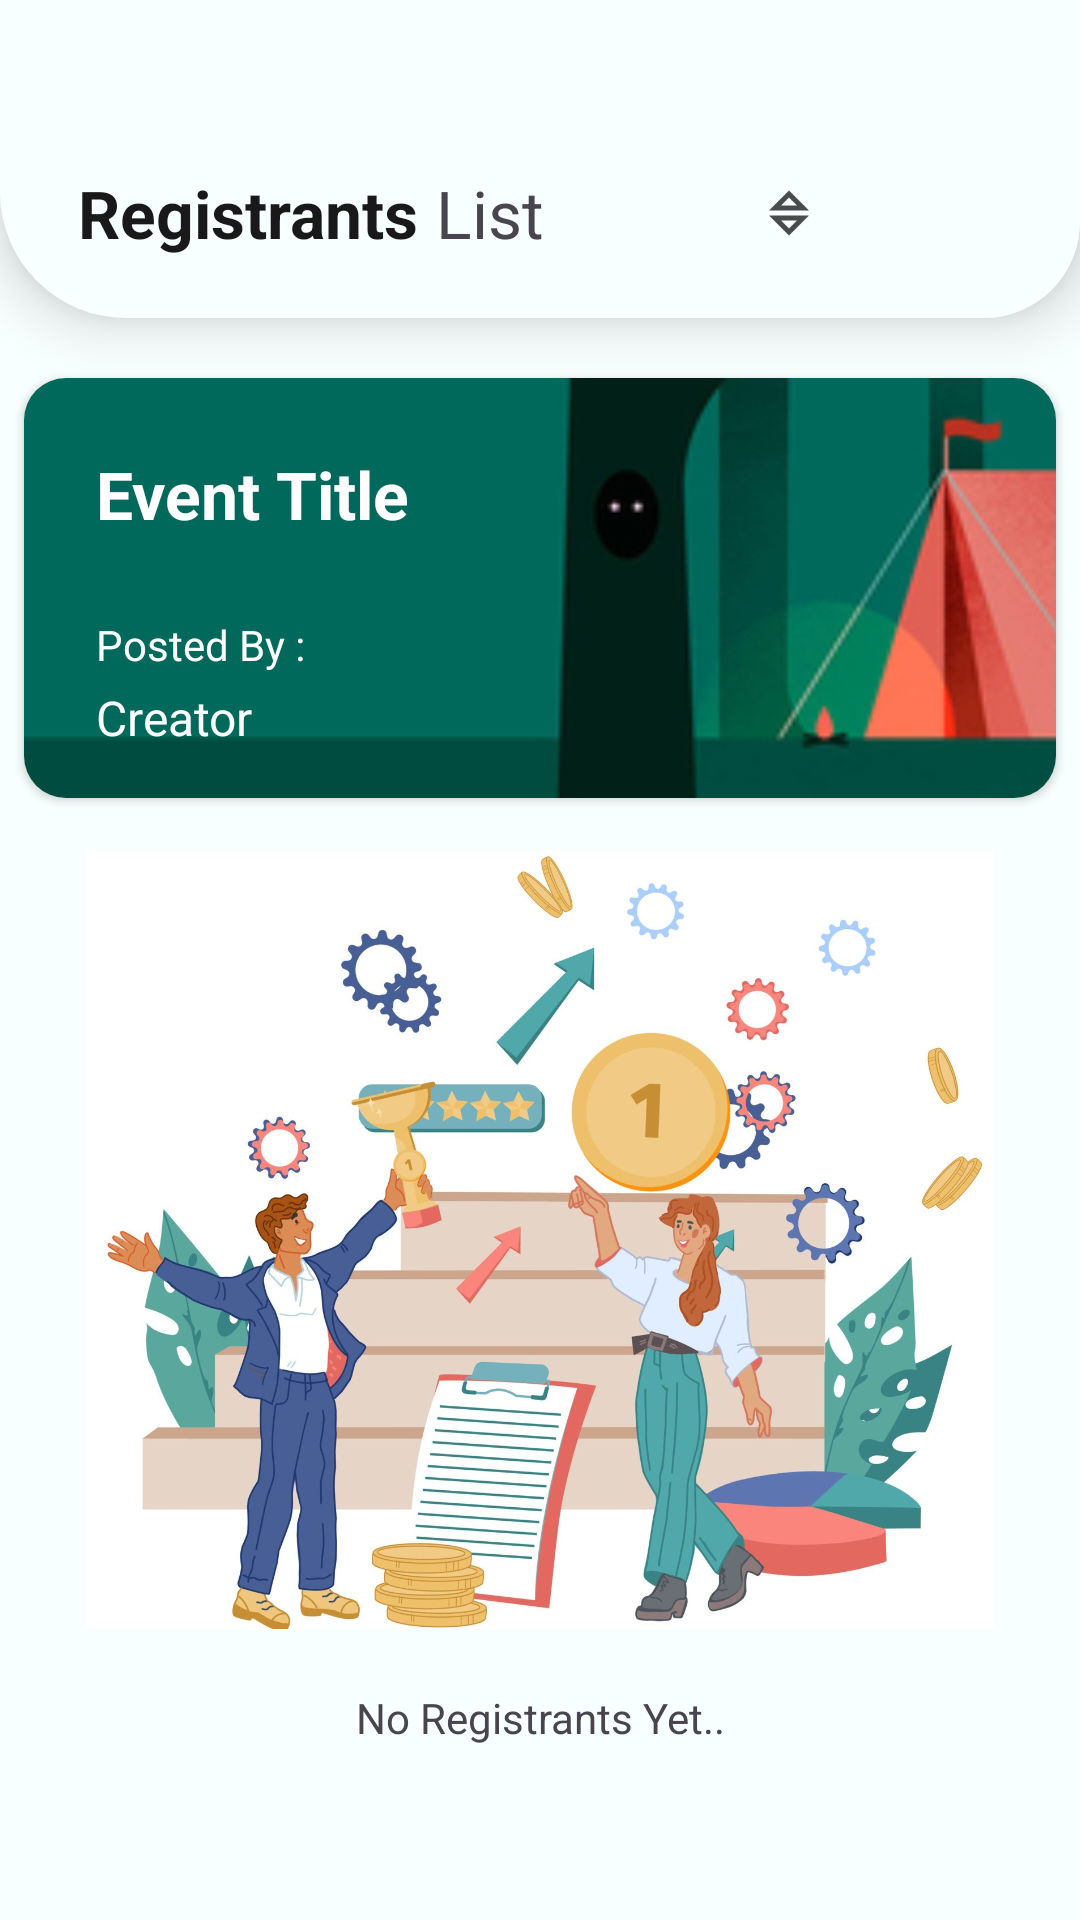

Named icons in this screenshot (1080 × 1920) and their centers, (x,y):
sort out: (789,213)
